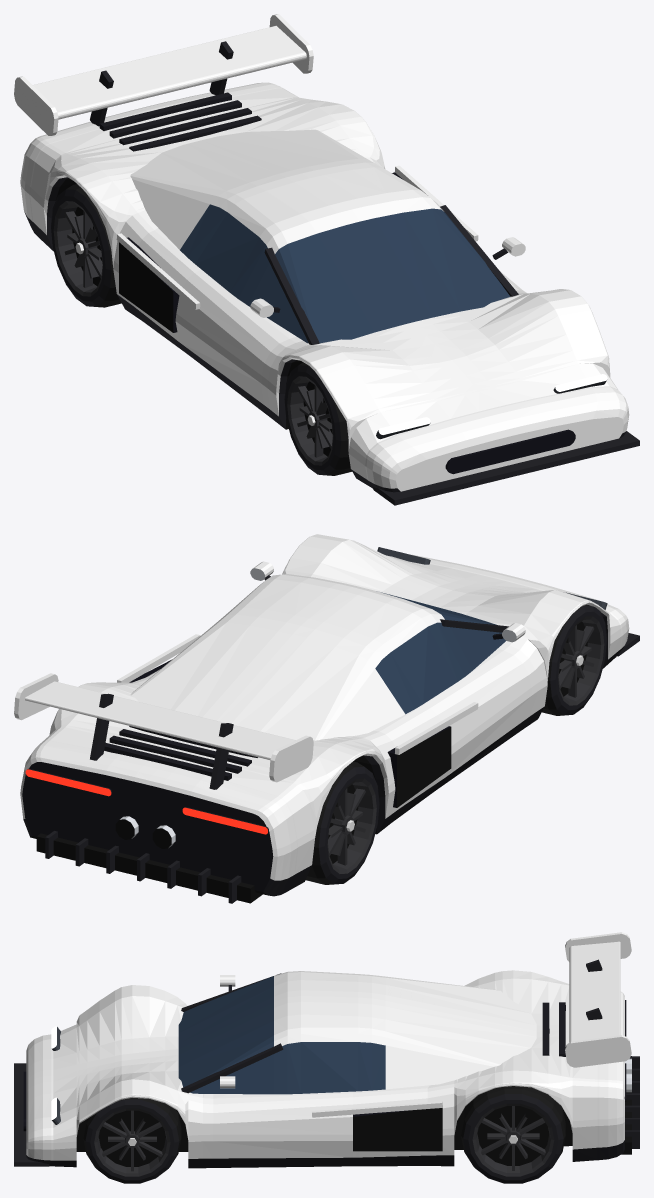
Rendered from hyper.glb.
3 renders of one model, top to bottom at view 1: azimuth 30°, elevation 25°; view 2: azimuth 150°, elevation 25°; view 3: azimuth 270°, elevation 25°, orthographic. The views are drawn at different scales.
Parts seen in each view (by area): view 1: paint, glass, stripe_a, accent, trim_carbon, part_16 (×2), trim, tire_side (×2), trim_under, trim_grille, stripe_b, headlight (+1 smaller); view 2: paint, trim, stripe_a, accent, glass, trim_under, trim_carbon, part_16 (×2), tire_side (×2), stripe_b, tire (×2), taillight (+1 smaller); view 3: paint, glass, stripe_a, trim_under (×3), accent, trim_carbon, part_16 (×2), tire_side (×2), stripe_b, tire (×2), trim.
Part boxes in pixels (left/top/right/bottom): paint: left=20, top=82, right=628, bottom=491; glass: left=180, top=204, right=510, bottom=343; stripe_a: left=107, top=96, right=552, bottom=447; accent: left=14, top=14, right=478, bottom=309; trim_carbon: left=24, top=41, right=639, bottom=505; part_16 (×2): left=53, top=201, right=333, bottom=465; trim: left=99, top=92, right=507, bottom=312; tire_side (×2): left=51, top=189, right=341, bottom=475; trim_under: left=56, top=178, right=302, bottom=429; trim_grille: left=127, top=172, right=575, bottom=474; stripe_b: left=20, top=172, right=629, bottom=480; headlight: left=378, top=374, right=607, bottom=434; paint: left=20, top=534, right=628, bottom=880; trim: left=22, top=575, right=503, bottom=891; stripe_a: left=105, top=564, right=546, bottom=795; accent: left=14, top=634, right=478, bottom=782; glass: left=375, top=592, right=505, bottom=714; trim_under: left=30, top=727, right=451, bottom=903; trim_carbon: left=23, top=577, right=639, bottom=903; part_16 (×2): left=327, top=616, right=604, bottom=873; tire_side (×2): left=319, top=605, right=606, bottom=884; stripe_b: left=20, top=601, right=629, bottom=856; tire (×2): left=306, top=605, right=588, bottom=884; taillight: left=25, top=769, right=267, bottom=834; paint: left=26, top=970, right=624, bottom=1160; glass: left=178, top=976, right=385, bottom=1094; stripe_a: left=26, top=980, right=624, bottom=1105; trim_under (×3): left=76, top=1056, right=631, bottom=1166; accent: left=311, top=932, right=631, bottom=1117; trim_carbon: left=14, top=959, right=639, bottom=1168; part_16 (×2): left=94, top=1103, right=554, bottom=1176; tire_side (×2): left=85, top=1094, right=563, bottom=1183; stripe_b: left=26, top=1083, right=624, bottom=1149; tire (×2): left=83, top=1086, right=565, bottom=1167; trim: left=228, top=985, right=626, bottom=1101.
Size of the model in its own units: 1.98 by 1.19 by 4.6.
